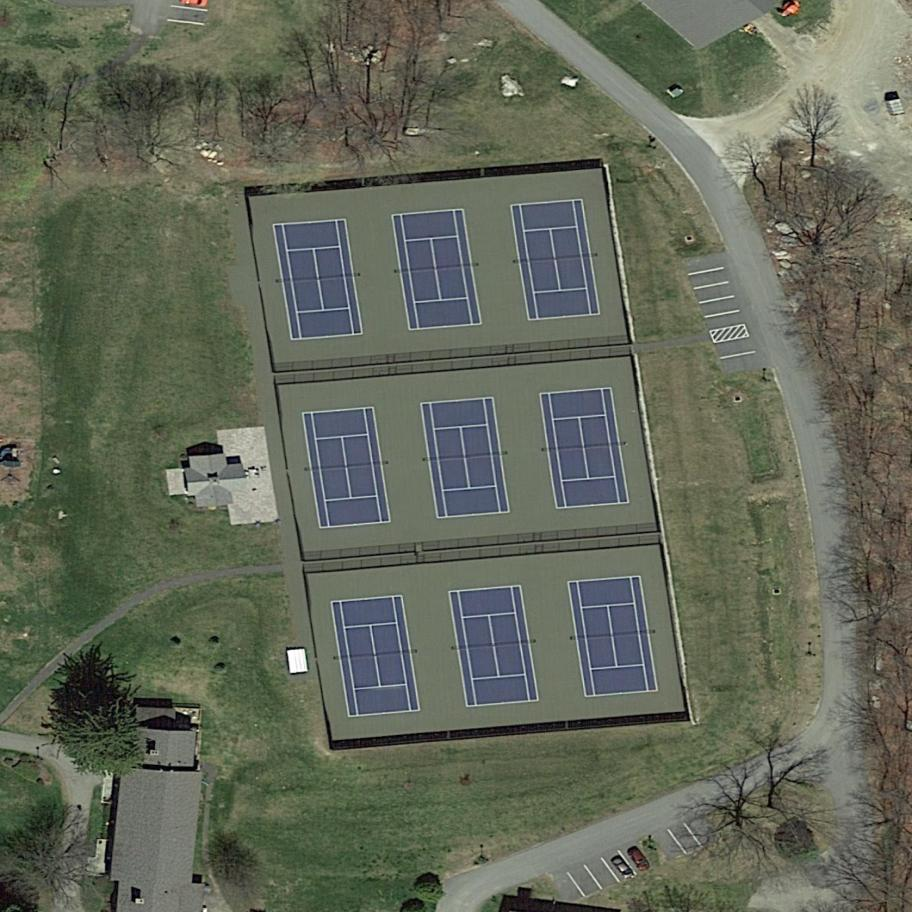small-vehicle: (626, 844, 654, 875), (609, 853, 637, 884)
